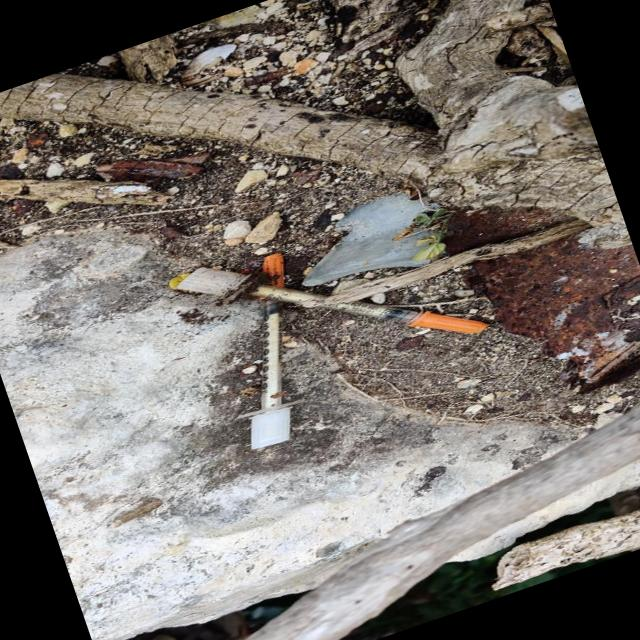Other litter: (431, 203, 640, 365), (158, 266, 482, 339), (229, 247, 302, 452), (90, 155, 209, 186)
